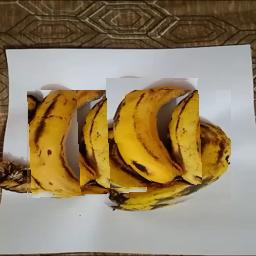Banana Semifresh: (23, 90, 231, 210), (107, 78, 199, 192), (28, 92, 99, 199), (77, 91, 143, 197)
